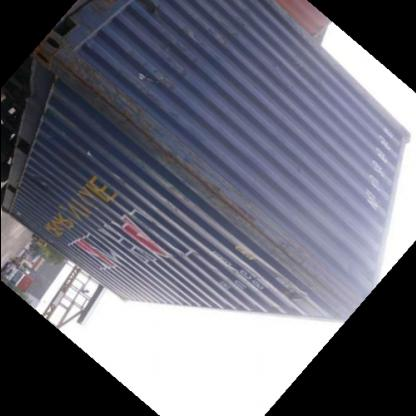Damage: (113, 96, 236, 202), (213, 202, 345, 286), (50, 46, 174, 116)
